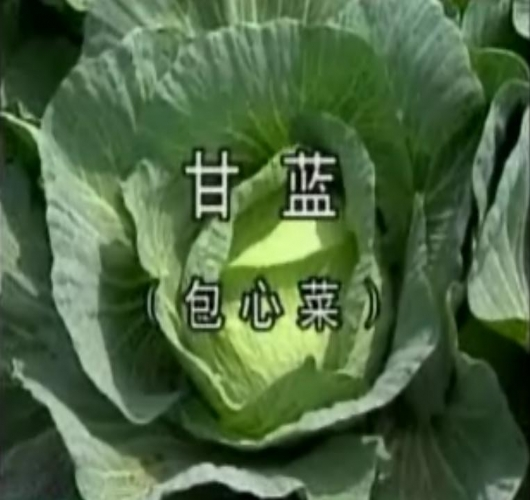cabbage: (180, 183, 385, 406)
